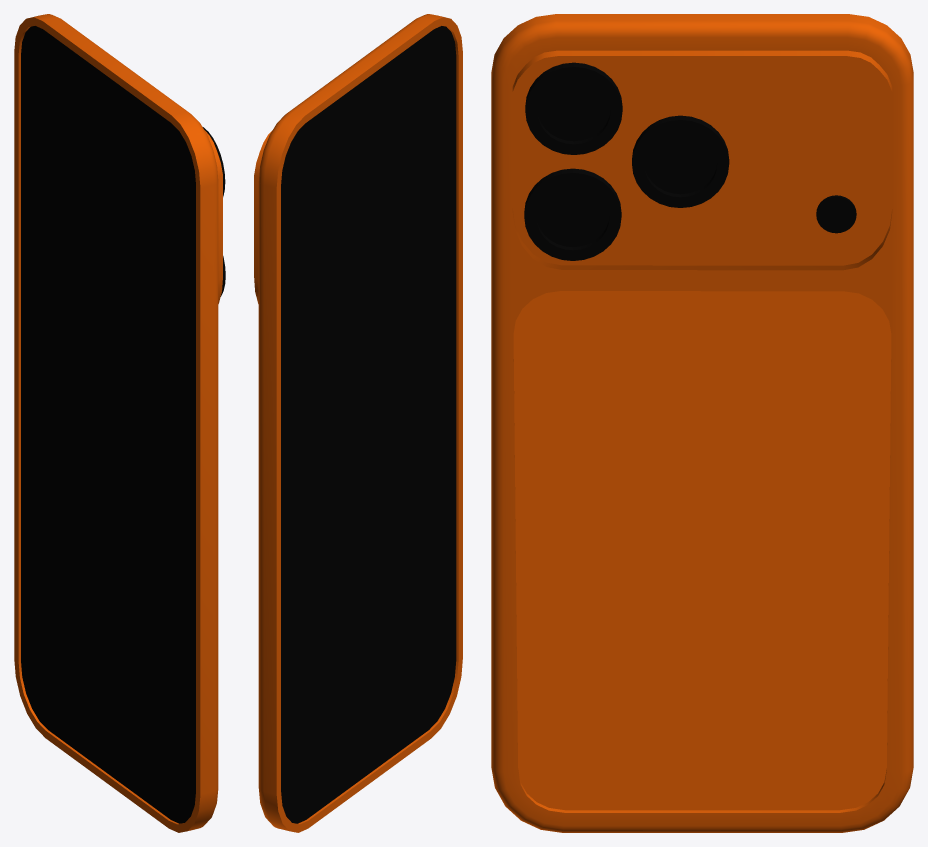
File: iphone17.fbx
3 renders of one model, left to right at view 1: azimuth 30°, elevation 25°; view 2: azimuth 150°, elevation 25°; view 3: azimuth 270°, elevation 25°, orthographic. The views are drawn at different scales.
Parts seen in each view (by area): view 1: Cube; view 2: Cube; view 3: Cube.
Boxes of the visible parts, x1=… form: Cube: x1=14, y1=14, x2=225, y2=832; Cube: x1=254, y1=14, x2=462, y2=832; Cube: x1=491, y1=14, x2=913, y2=832.
Size of the model in its own units: 28.66 by 492 by 232.
